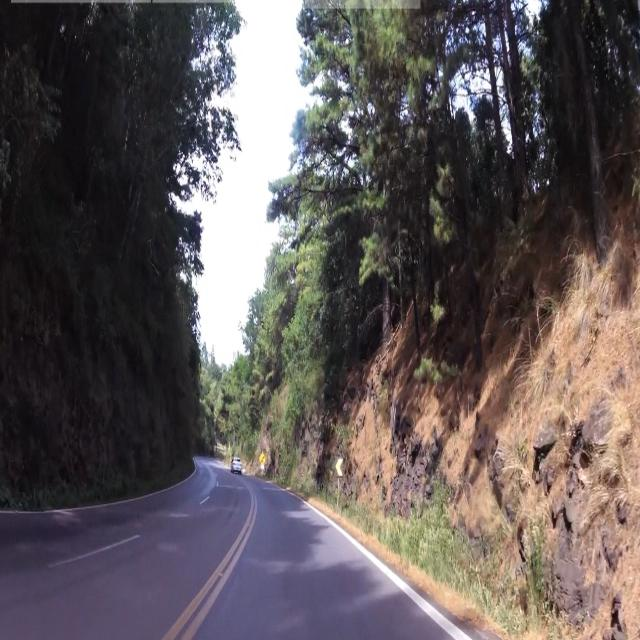Del: (336, 454, 343, 483)
